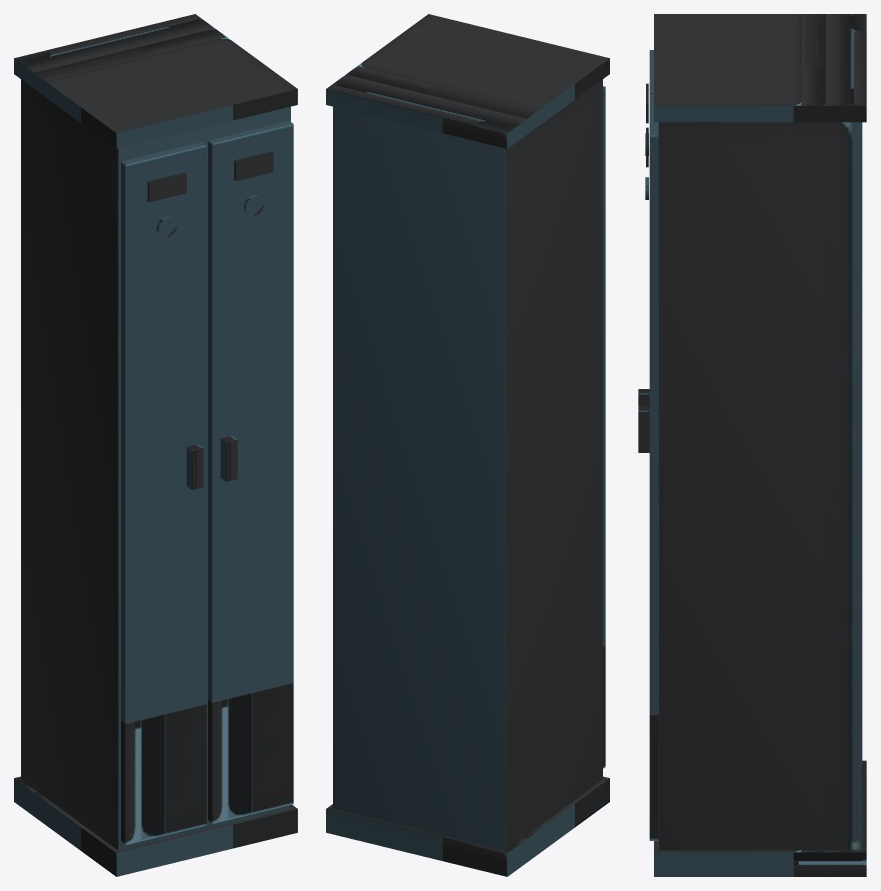
Rendered from PR_locker.glb.
3 views of the same model, side by side, from view 1: azimuth 30°, elevation 25°; view 2: azimuth 150°, elevation 25°; view 3: azimuth 270°, elevation 25° (orthographic). The views are drawn at different scales.
Visible parts, largest first — view 1: PR_locker; view 2: PR_locker; view 3: PR_locker.
Boxes of the visible parts, <box> form: PR_locker: <box>14,14,297,876</box>; PR_locker: <box>326,14,609,876</box>; PR_locker: <box>638,14,866,876</box>.
Bounding box in the file's own units: 0.48 × 1.88 × 0.505.
Materials: 1 (1 with a texture image).
